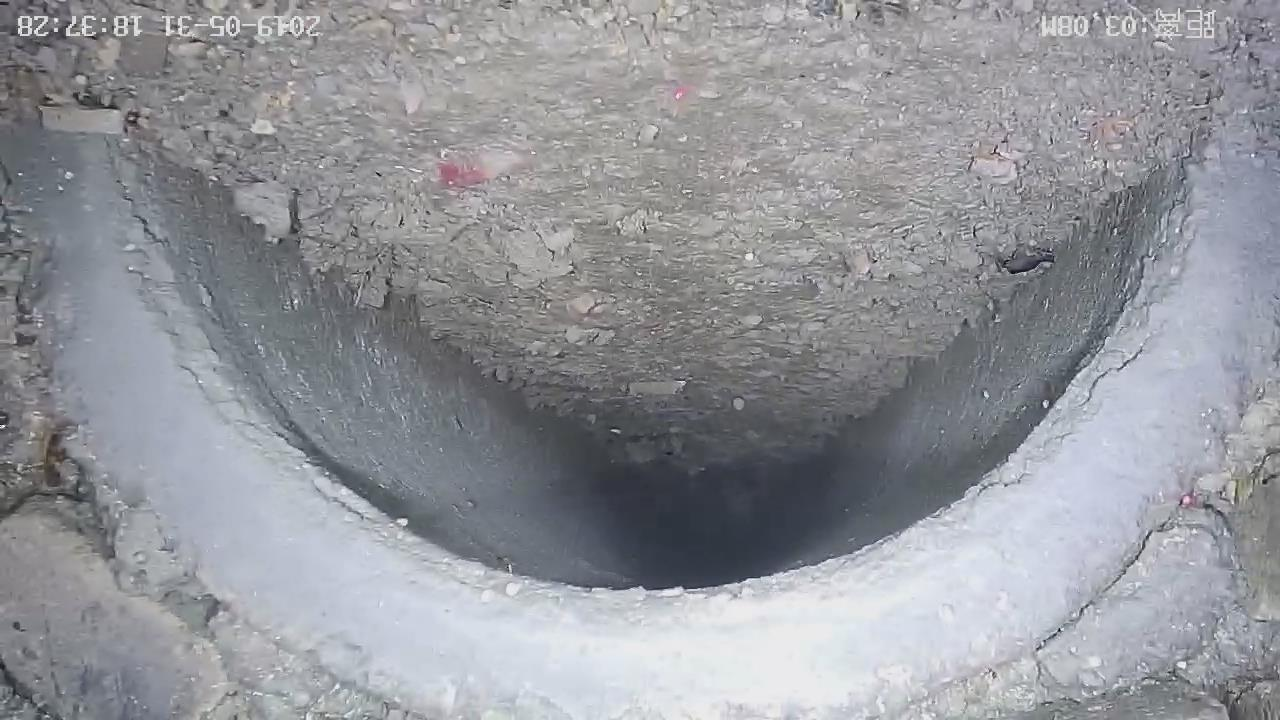CJ: (13, 1, 1217, 466)
